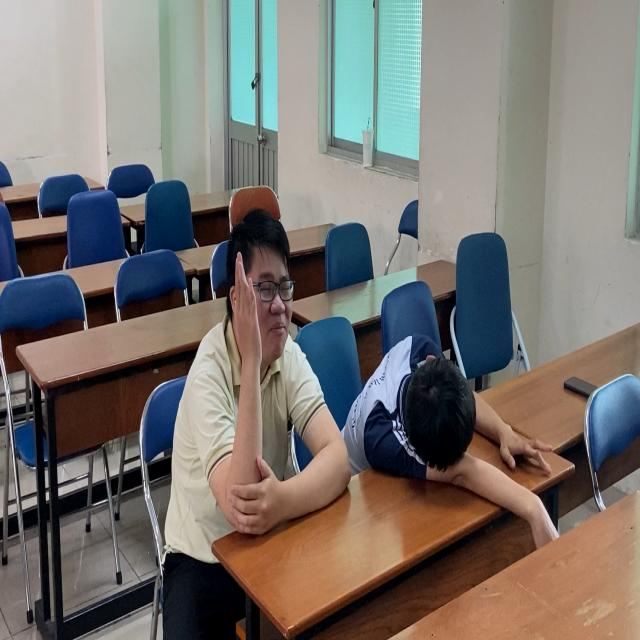raise_hand: (165, 206, 343, 572)
sleep: (351, 324, 572, 497)
